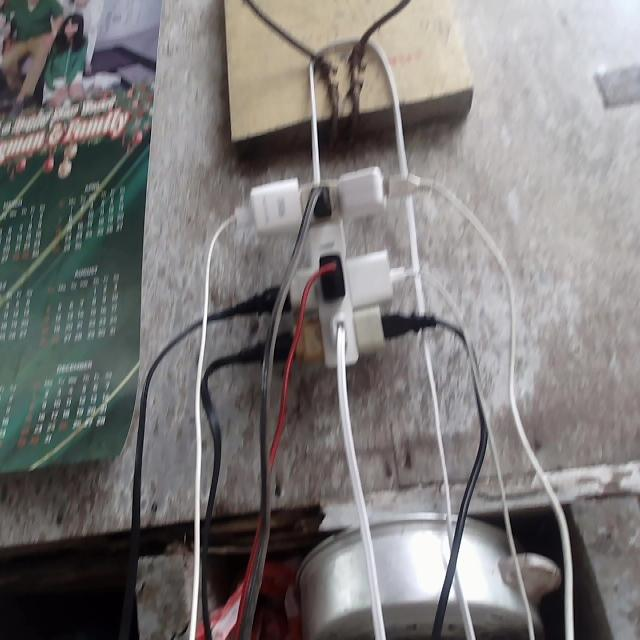-: (240, 164, 411, 373)
